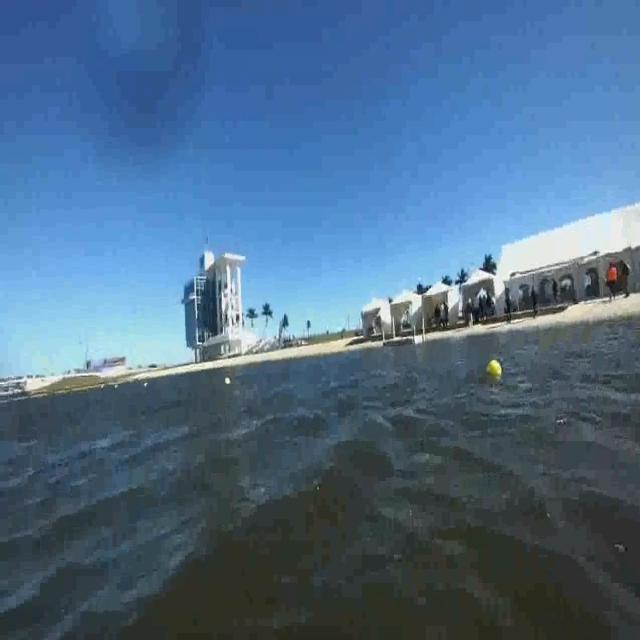yellow-buoy: (487, 358, 502, 377)
